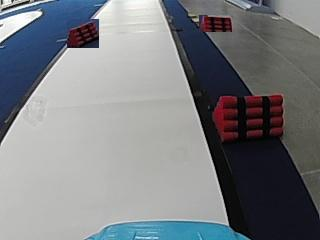bomb: (213, 94, 283, 140)
